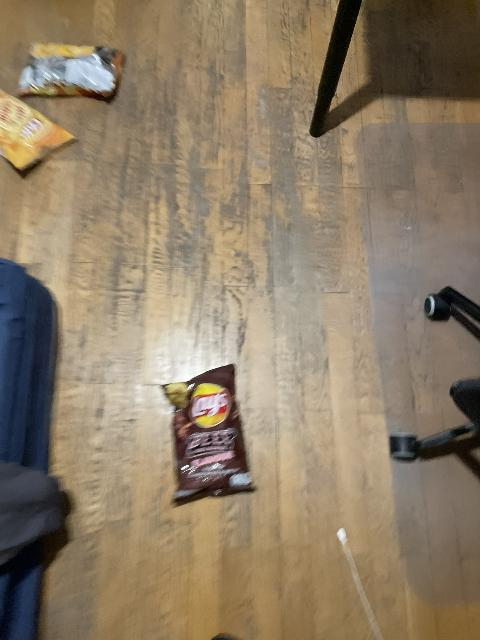Chio Cascaval 125g: (0, 79, 78, 172), (13, 43, 124, 102)
Lays Beef Grilled Ribs 125g: (164, 361, 257, 500)
